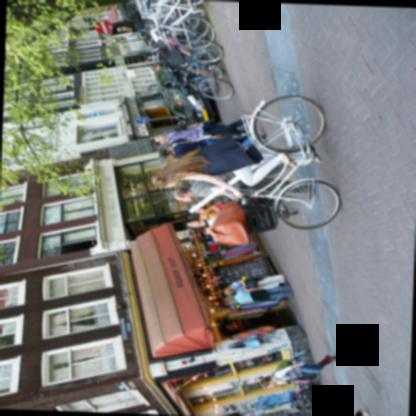backpack: (273, 359, 294, 381), (169, 138, 188, 144)
handbag: (246, 277, 257, 287)
suitcase: (210, 201, 254, 245)
